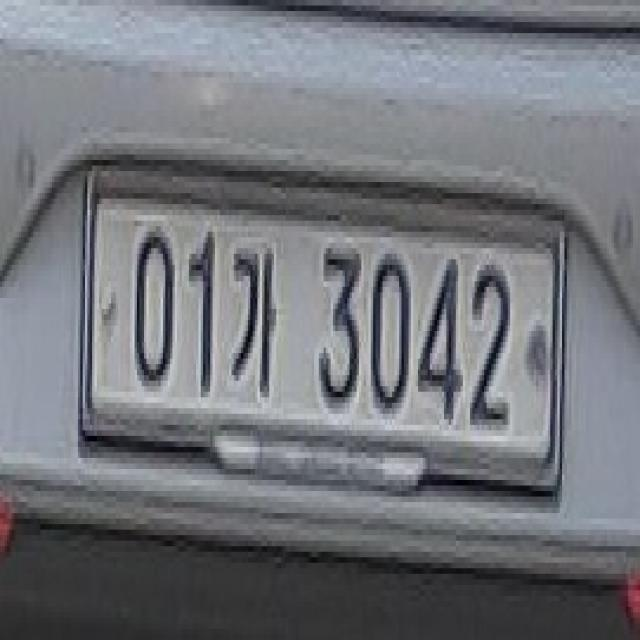0: (130, 222, 178, 398), (368, 240, 414, 422)
1: (180, 215, 219, 399)
2: (468, 245, 518, 445)
3: (311, 236, 364, 424)
4: (418, 235, 464, 439)
ga: (226, 228, 286, 407)
license_plate: (69, 152, 571, 511)
